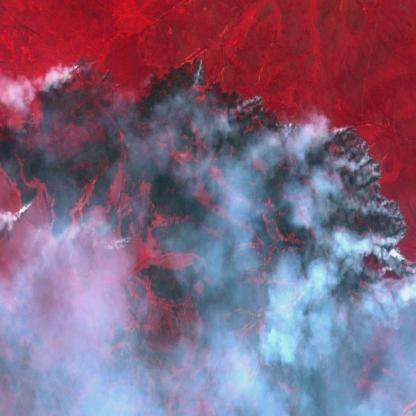fire: (321, 117, 416, 321), (186, 48, 317, 158), (37, 48, 98, 86), (3, 190, 44, 224), (98, 233, 140, 252)
